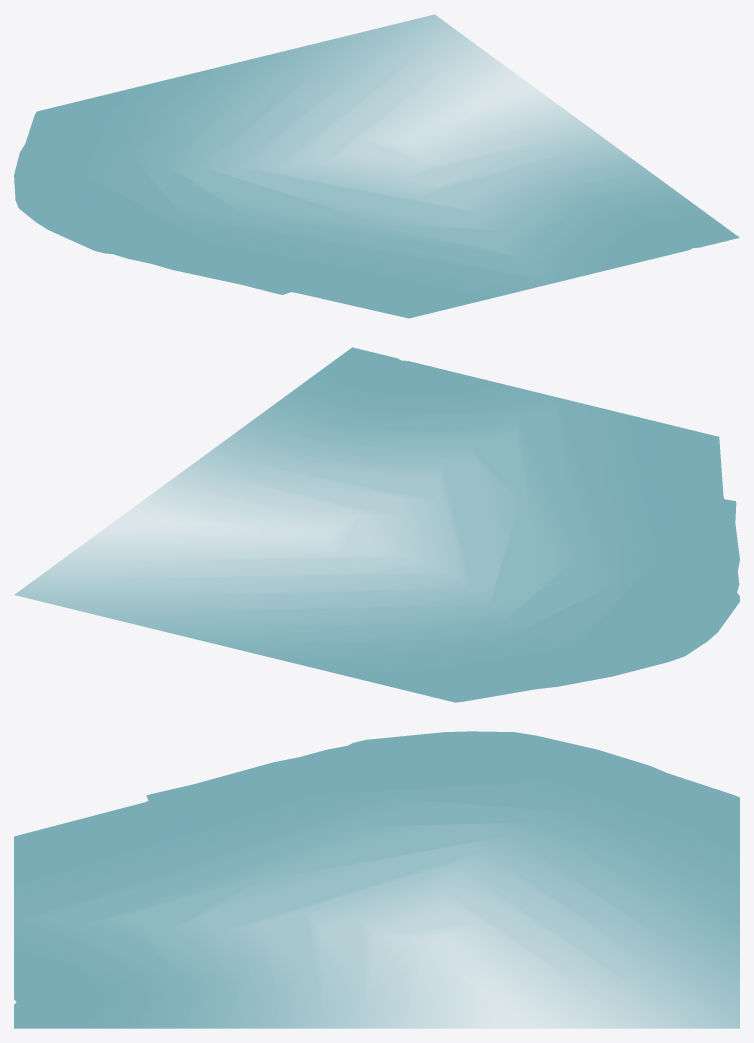
3 renders of one model, top to bottom at view 1: azimuth 30°, elevation 25°; view 2: azimuth 150°, elevation 25°; view 3: azimuth 270°, elevation 25°, orthographic. The views are drawn at different scales.
Parts seen in each view (by area): view 1: city; view 2: city; view 3: city.
Boxes of the visible parts, x1=… form: city: x1=14, y1=14, x2=739, y2=318; city: x1=14, y1=347, x2=739, y2=702; city: x1=14, y1=731, x2=739, y2=1028.
Bounding box in the file's own units: 484 × 0 × 500.
